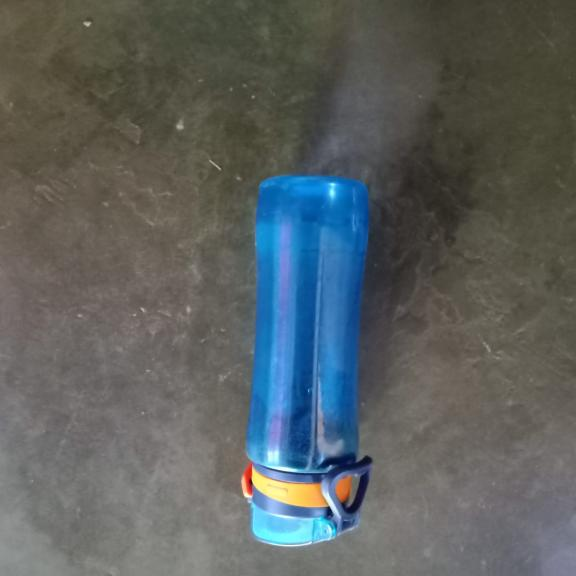Plastik: (243, 174, 377, 548)
